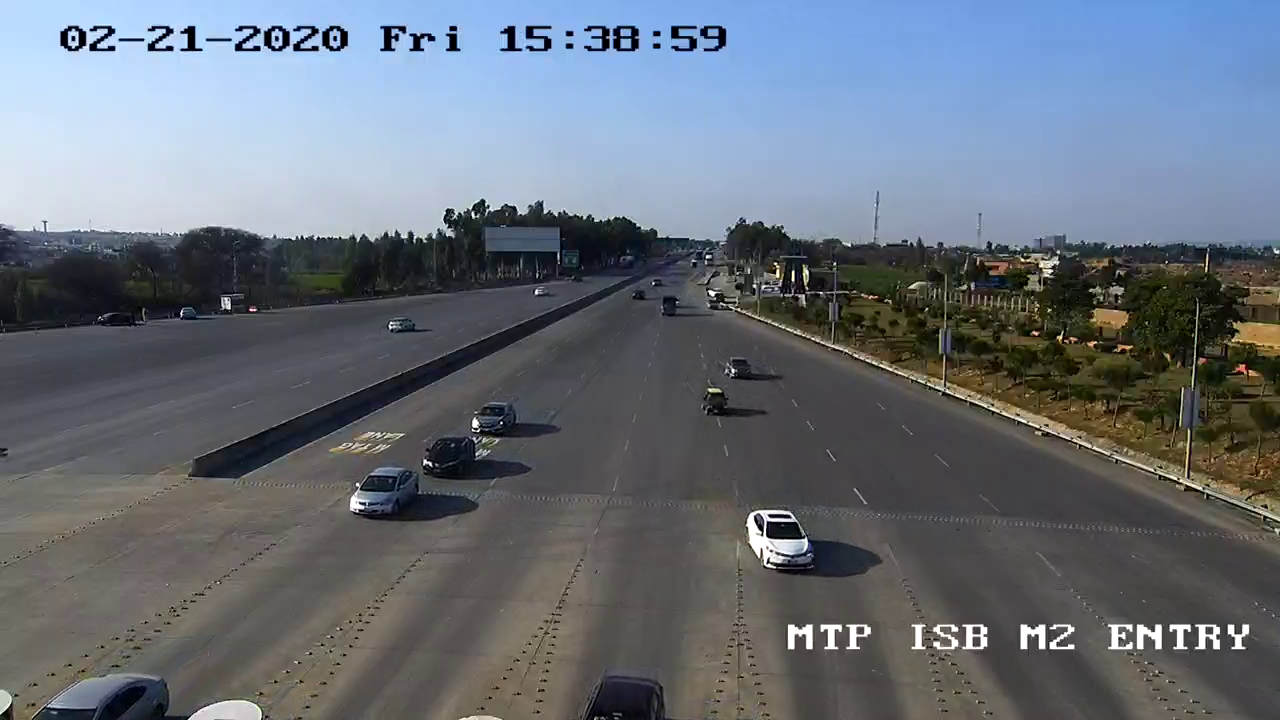f1: (739, 500, 821, 575), (340, 462, 421, 528), (414, 428, 485, 484), (463, 394, 526, 443)
